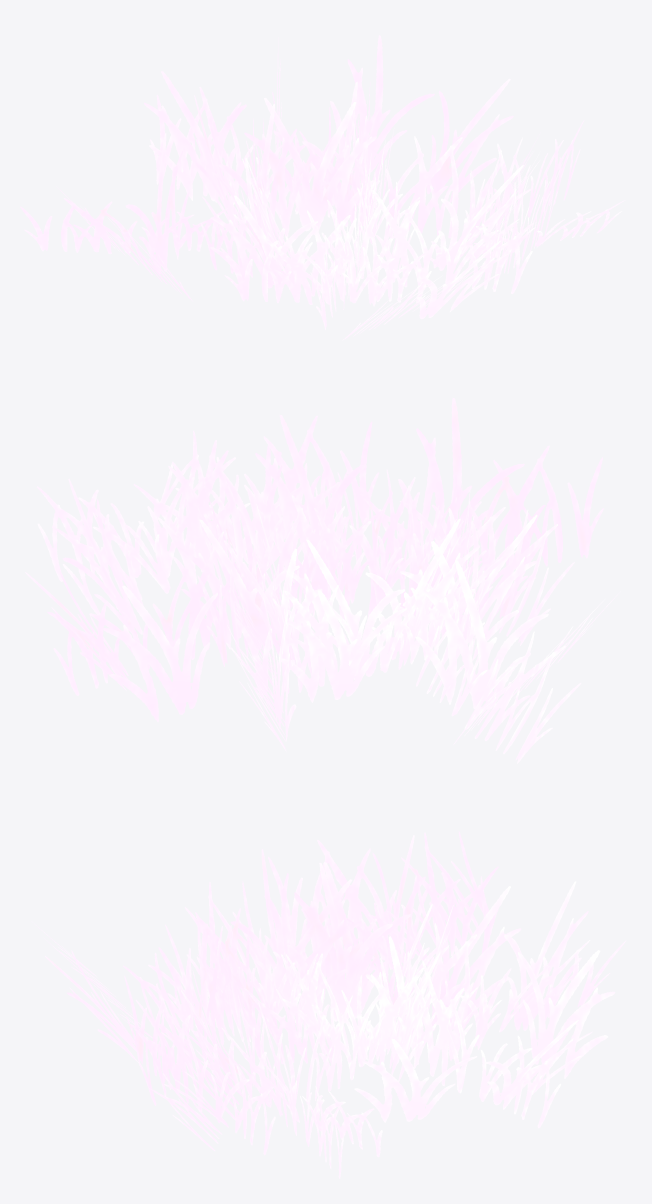
3 views of the same model, one above another, from view 1: azimuth 30°, elevation 25°; view 2: azimuth 150°, elevation 25°; view 3: azimuth 270°, elevation 25° (orthographic). The views are drawn at different scales.
Parts seen in each view (by area): view 1: SM_GF_GrassShort_03_NoRVT_LOD0; view 2: SM_GF_GrassShort_03_NoRVT_LOD0; view 3: SM_GF_GrassShort_03_NoRVT_LOD0.
Boxes of the visible parts, x1,y1,x2,y2 form: SM_GF_GrassShort_03_NoRVT_LOD0: (20,35,625,340); SM_GF_GrassShort_03_NoRVT_LOD0: (25,398,620,763); SM_GF_GrassShort_03_NoRVT_LOD0: (31,831,626,1178).
Size of the model in its own units: 1.19 by 0.3527 by 1.09.
Materials: 1 (1 with a texture image).
